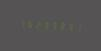eight: (57, 20, 64, 31)
nine: (49, 19, 56, 31), (65, 20, 72, 32), (41, 19, 48, 30)
one: (73, 21, 80, 32)
seven: (17, 18, 24, 29)
six: (25, 18, 32, 30)
two: (33, 19, 40, 30)
